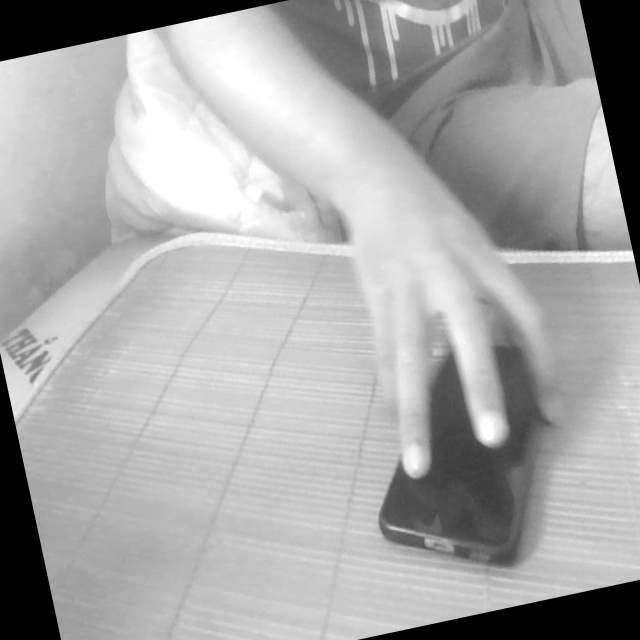phone: (330, 273, 596, 596)
